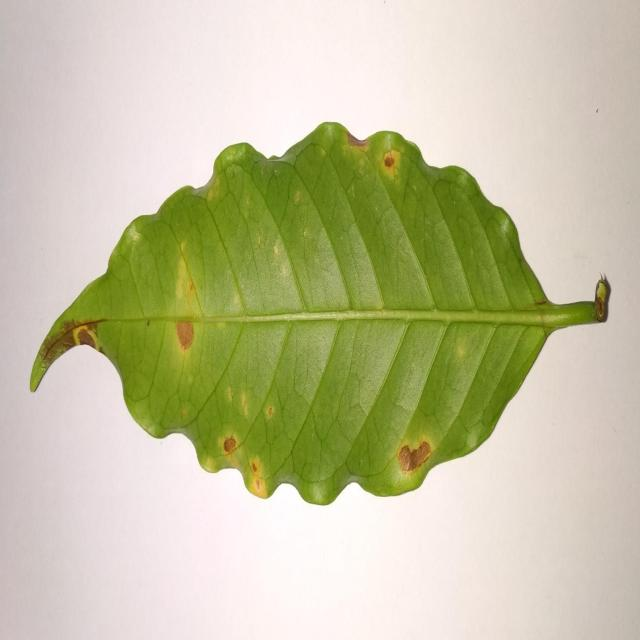Enfermedad-Mancha-de-hierro: (26, 122, 611, 509)
